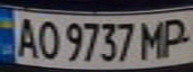3: (100, 19, 121, 63)
7: (115, 19, 139, 62), (78, 19, 100, 63)
9: (60, 19, 84, 62)
A: (9, 13, 42, 60)
M: (136, 17, 172, 60)
O: (33, 17, 60, 61)
P: (157, 15, 193, 58)
